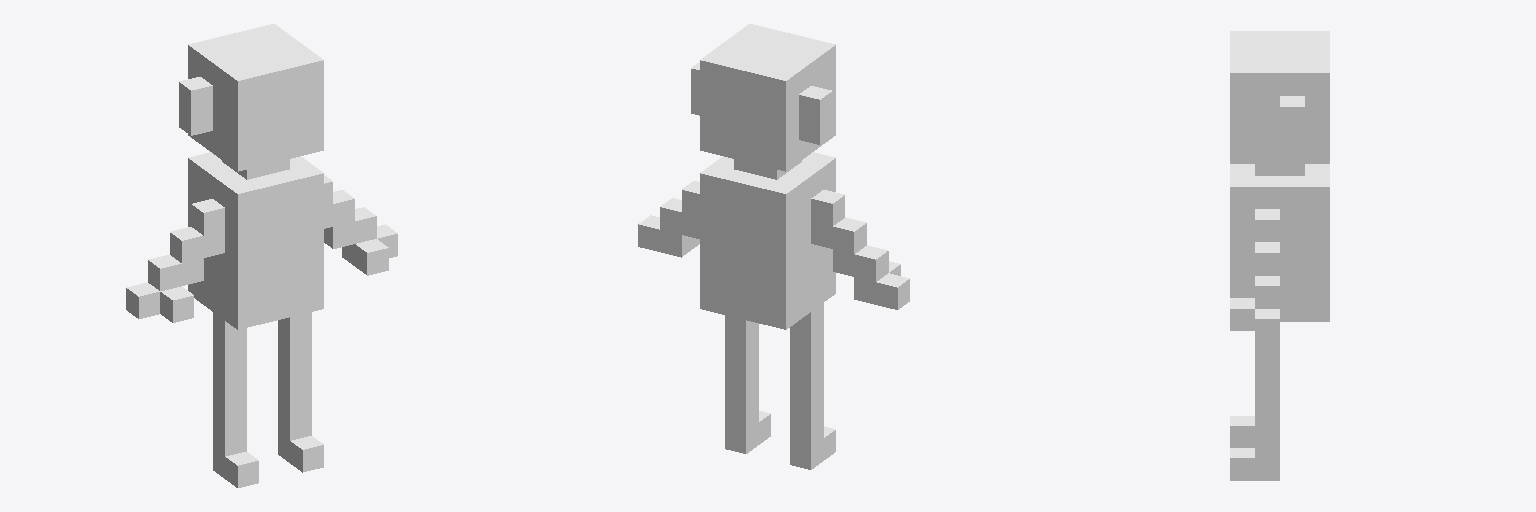
Rendered from Customer_old_man.obj.
3 renders of one model, left to right at view 1: azimuth 30°, elevation 25°; view 2: azimuth 150°, elevation 25°; view 3: azimuth 270°, elevation 25°, orthographic.
Visible parts, largest first — view 1: Customer_old_man; view 2: Customer_old_man; view 3: Customer_old_man.
Part boxes in pixels (bbox=[...]): Customer_old_man: bbox=[126, 24, 397, 487]; Customer_old_man: bbox=[638, 24, 909, 469]; Customer_old_man: bbox=[1230, 31, 1329, 480].
Bounding box in the file's own units: 12 × 18 × 4.